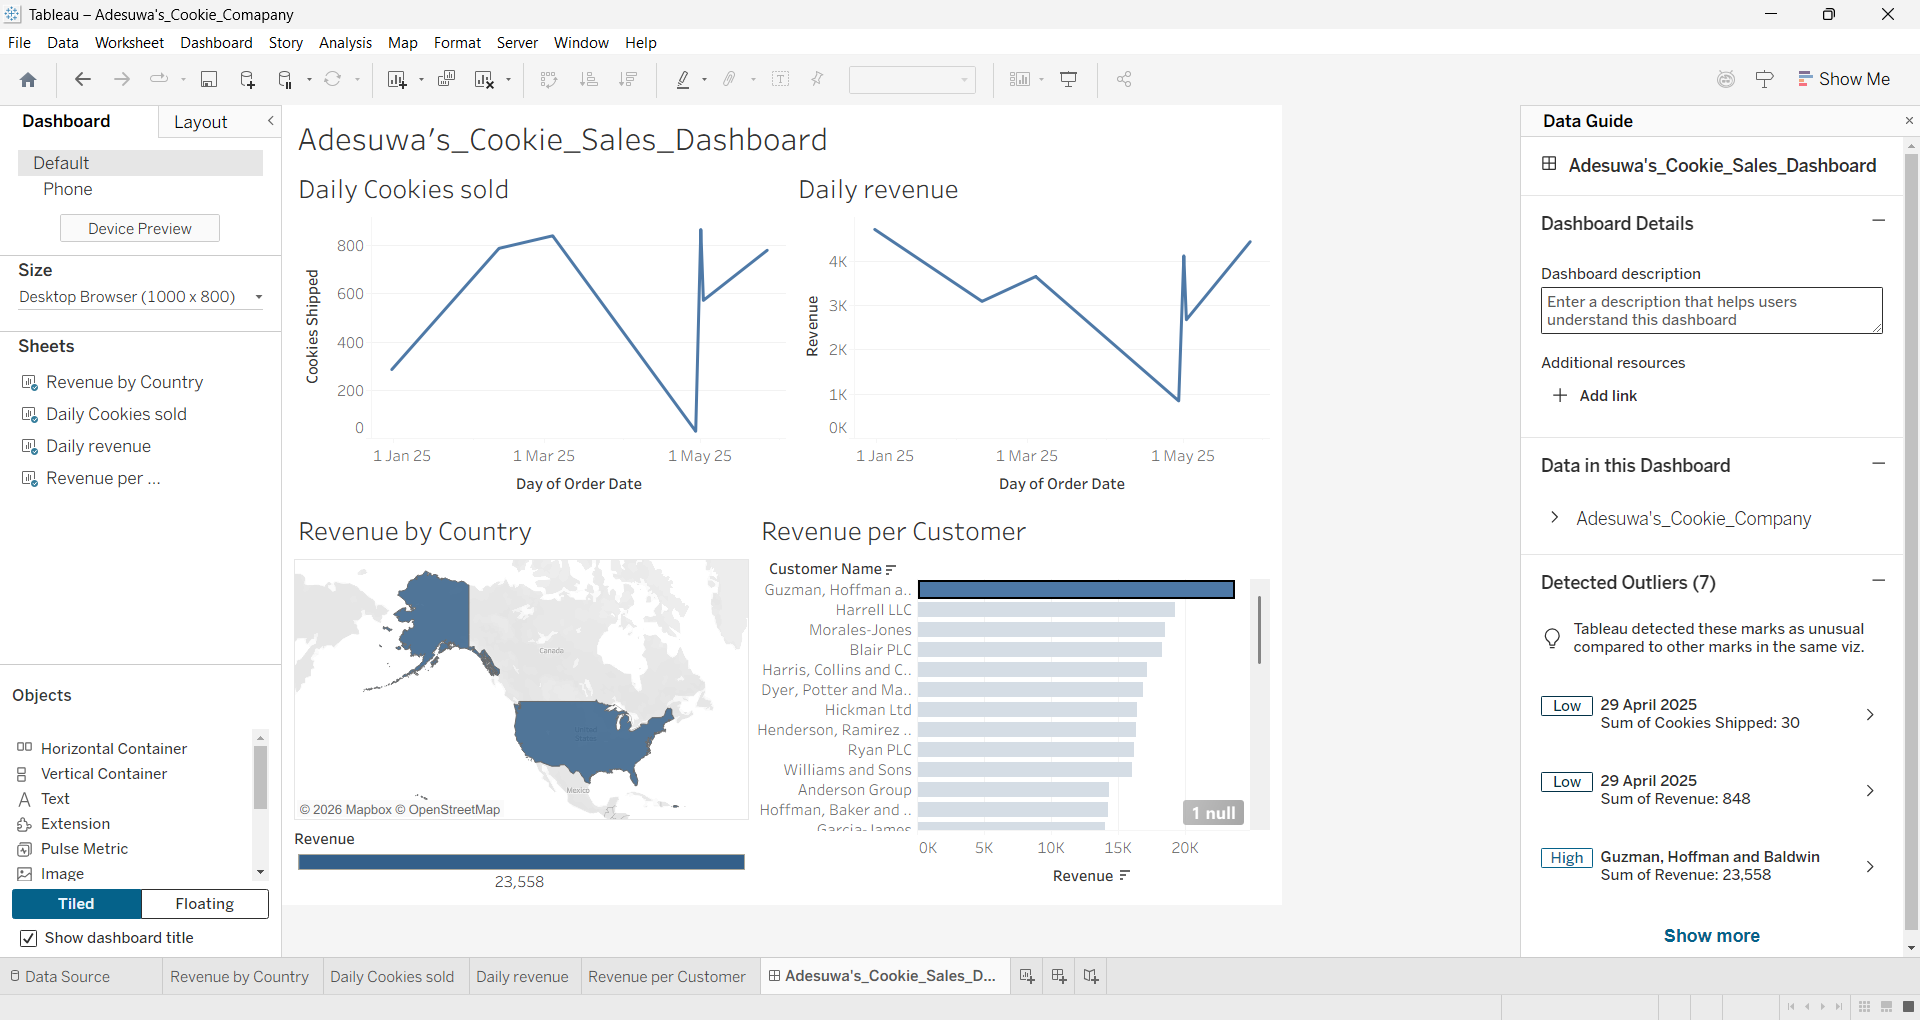

Layout of this report page (visuals, bound fields, positions):
{"tool":"tableau","page":{"name":"Adesuwa's_Cookie_Sales_Dashboard","canvas":[1000,800],"ordinal":0},"visuals":[{"type":"title","box":[8,8,984,50]},{"type":"worksheet","title":"Daily Cookies sold","mark":"Automatic","rows":["Cookies Shipped"],"cols":["Order Date"],"box":[8,58,496,342]},{"type":"worksheet","title":"Daily revenue","mark":"Automatic","rows":["Revenue"],"cols":["Order Date"],"box":[504,58,488,342]},{"type":"worksheet","title":"Revenue by Country","mark":"Automatic","box":[8,400,463,319]},{"type":"worksheet","title":"Revenue per Customer","mark":"Automatic","rows":["Customer Name"],"cols":["Revenue"],"box":[471,400,521,392]},{"type":"legend","title":"Revenue by Country","param":"[federated.04rcg8l0a9pl2m1du0rja1oio6ca].[sum:Revenue:qk]","box":[8,719,463,73]}]}

Visuals, with their boxes on the page's 1000x800 design canvas (x1, y1, x2, y2). These are canvas units, not pixel positions in the 1920x1020 screenshot, which may show the page scaled, cropped or inside an application window:
title: 8, 8, 992, 58
"Daily Cookies sold" worksheet: 8, 58, 504, 400
"Daily revenue" worksheet: 504, 58, 992, 400
"Revenue by Country" worksheet: 8, 400, 471, 719
"Revenue per Customer" worksheet: 471, 400, 992, 792
"Revenue by Country" legend: 8, 719, 471, 792
